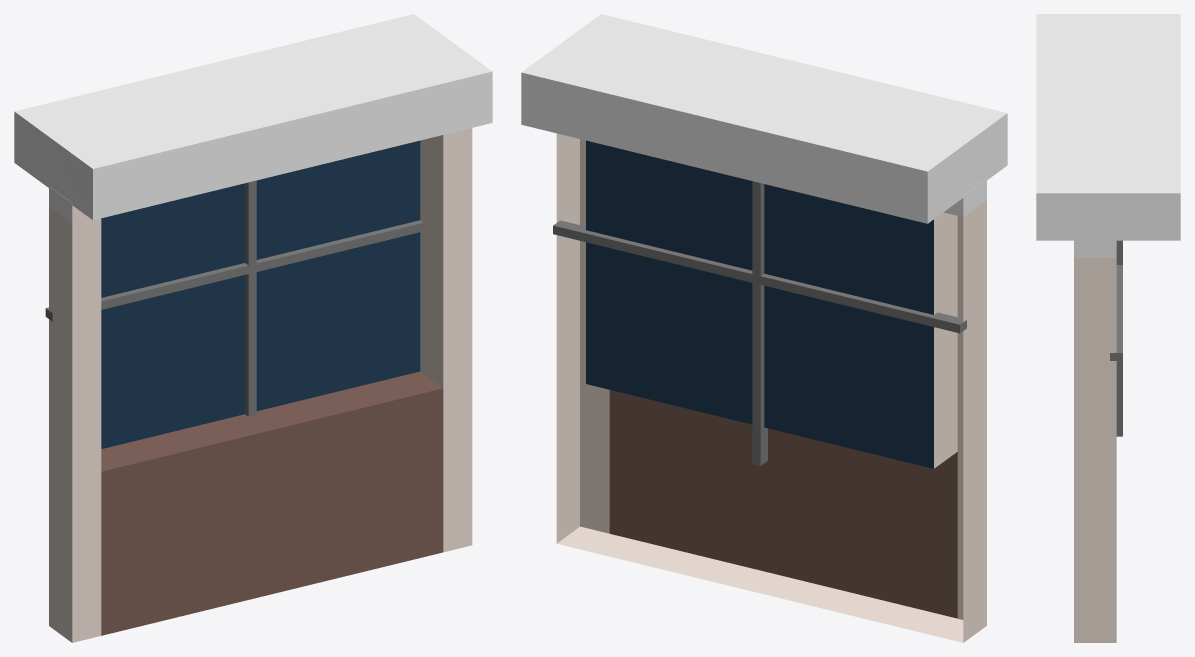
Rendered from top-w1.fbx.
The picture shows the model from 3 angles, left to right: view 1: azimuth 30°, elevation 25°; view 2: azimuth 150°, elevation 25°; view 3: azimuth 270°, elevation 25°; orthographic projection. The views are drawn at different scales.
Visible parts, largest first — view 1: top-w1; view 2: top-w1; view 3: top-w1.
Part boxes in pixels (x1,y1,x2,y2): top-w1: (14,14,492,642); top-w1: (521,14,1007,642); top-w1: (1036,14,1180,642).
Size of the model in its own units: 3 by 3.5 by 1.02.
